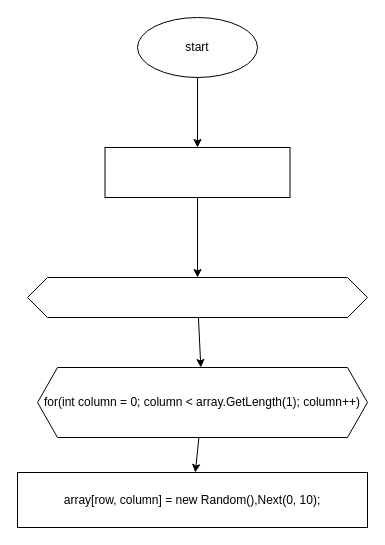
The diagram is 385 pixels wide and 545 high, and some of its shapes have lost their labels. Each missing label, with the centre of its shape:
for(int row = 0; row < array.GetLength(0); row++): pixel 197 297
int[,] array = new int[5, 5]; int[,] newArray = new int[5, ];: pixel 197 172
